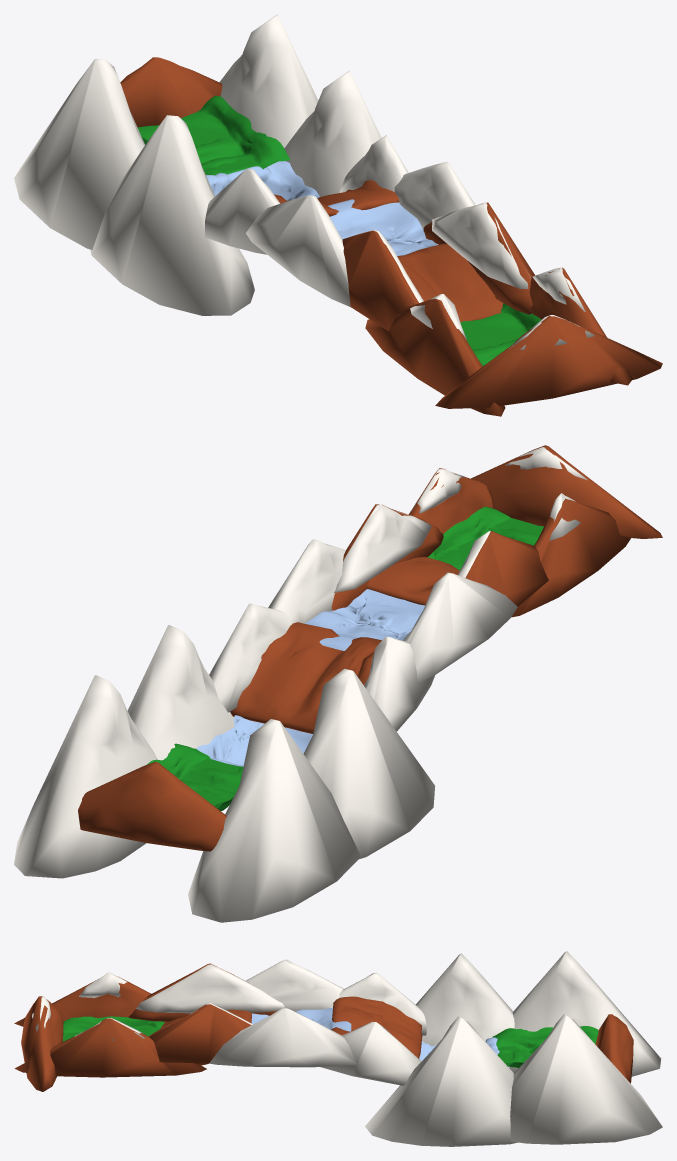
The model's file is finalfinalterrain.glb.
3 renders of one model, top to bottom at view 1: azimuth 30°, elevation 25°; view 2: azimuth 150°, elevation 25°; view 3: azimuth 270°, elevation 25°, orthographic. The views are drawn at different scales.
Parts seen in each view (by area): view 1: Cylinder.002; view 2: Cylinder.002; view 3: Cylinder.002.
Boxes of the visible parts, x1,y1,x2,y2 form: Cylinder.002: [14, 14, 662, 416]; Cylinder.002: [14, 445, 662, 922]; Cylinder.002: [14, 951, 662, 1146].
Size of the model in its own units: 102 by 53.09 by 276.
